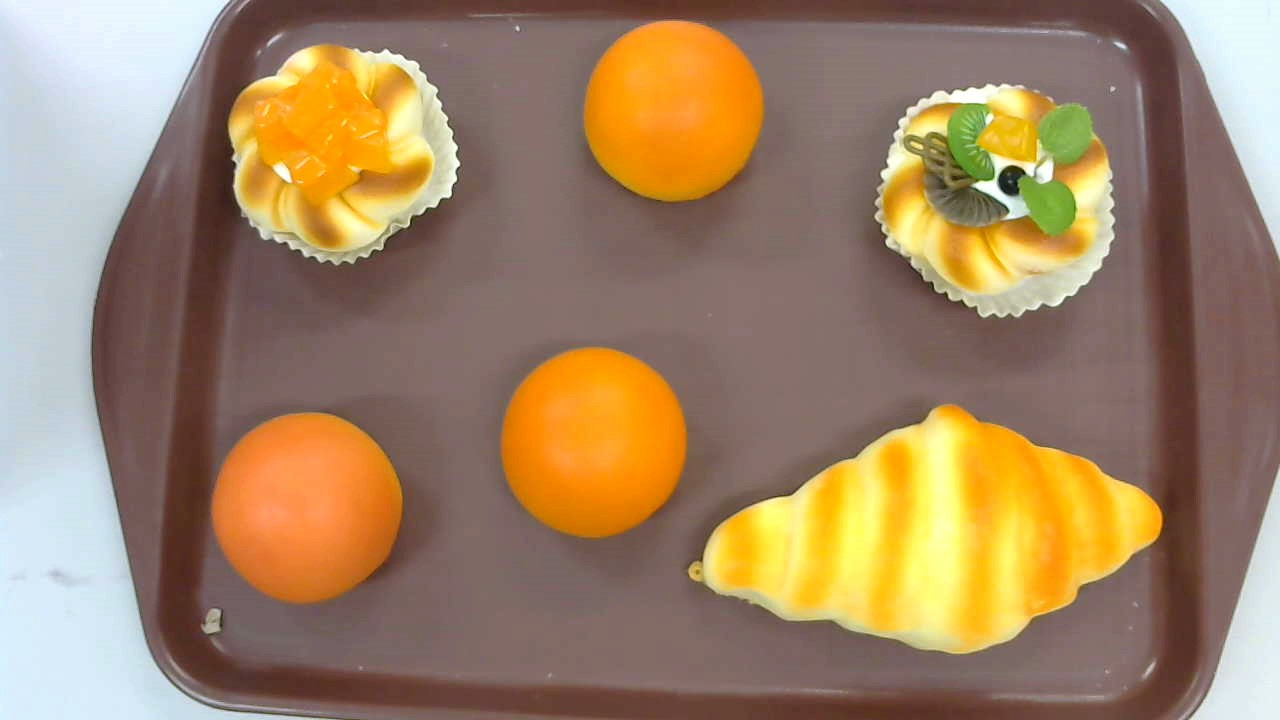bun: (210, 412, 402, 603), (500, 346, 686, 537), (582, 20, 766, 200)
croissant: (686, 403, 1163, 654)
fruit tart: (873, 84, 1116, 319)
mango tart: (228, 42, 460, 267)
